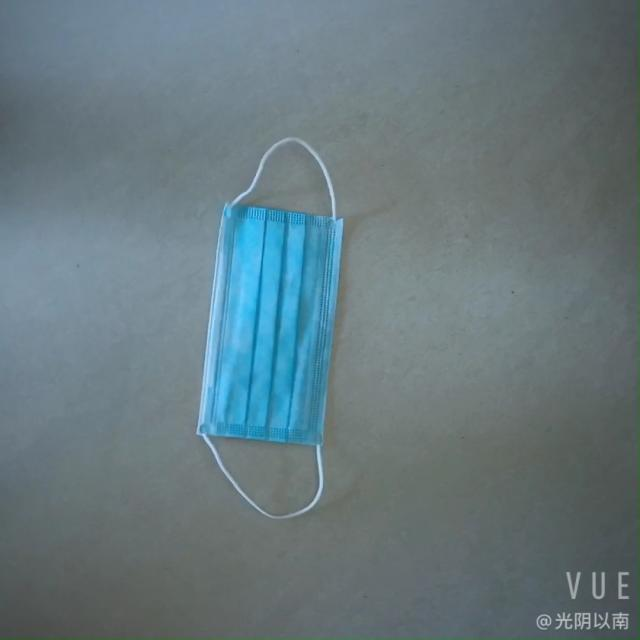face mask: (190, 194, 364, 451)
